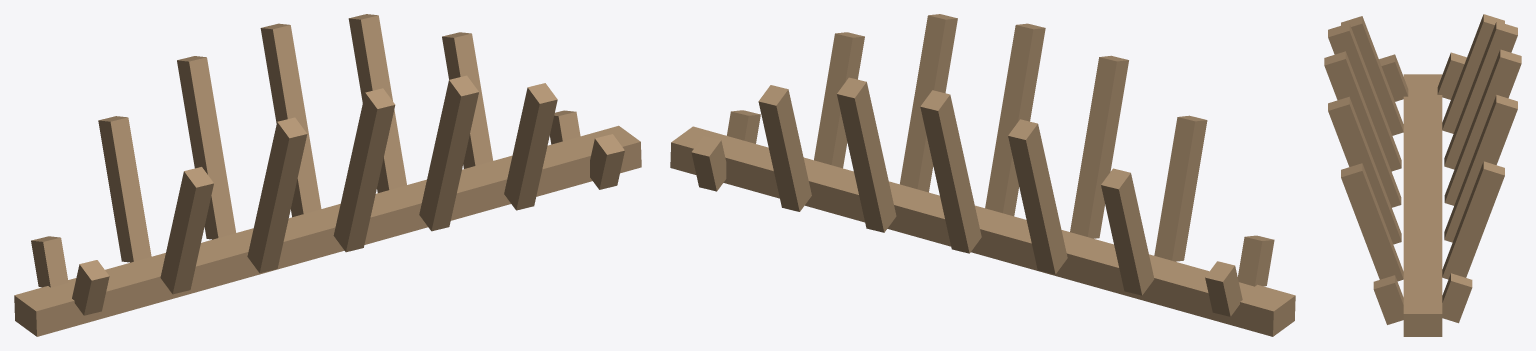
The model's file is lighthouse-and-rocky-coast-wreck-rib-set-19b8fb1f__36625.glb.
3 renders of one model, left to right at view 1: azimuth 30°, elevation 25°; view 2: azimuth 150°, elevation 25°; view 3: azimuth 270°, elevation 25°, orthographic. The views are drawn at different scales.
Parts seen in each view (by area): view 1: wreck-rib-set; view 2: wreck-rib-set; view 3: wreck-rib-set.
Part boxes in pixels (x1=…): wreck-rib-set: x1=14, y1=14, x2=641, y2=336; wreck-rib-set: x1=670, y1=14, x2=1295, y2=336; wreck-rib-set: x1=1324, y1=14, x2=1521, y2=336.
Size of the model in its own units: 5.4 by 1.68 by 1.74.
